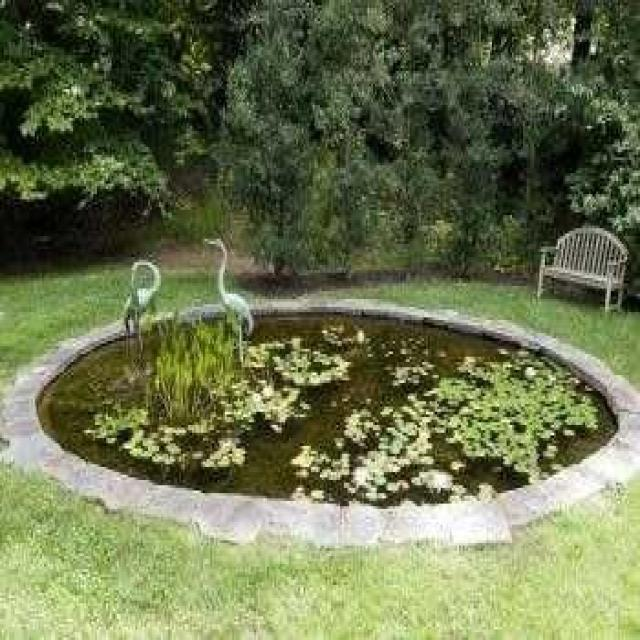Ponds: (1, 296, 640, 555)
